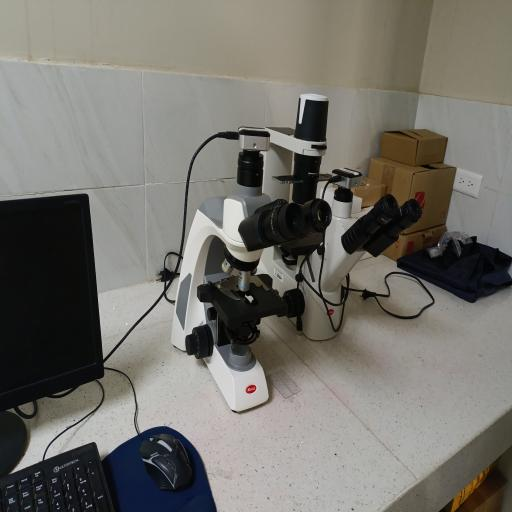Microscopio_camara: (153, 107, 336, 429)
